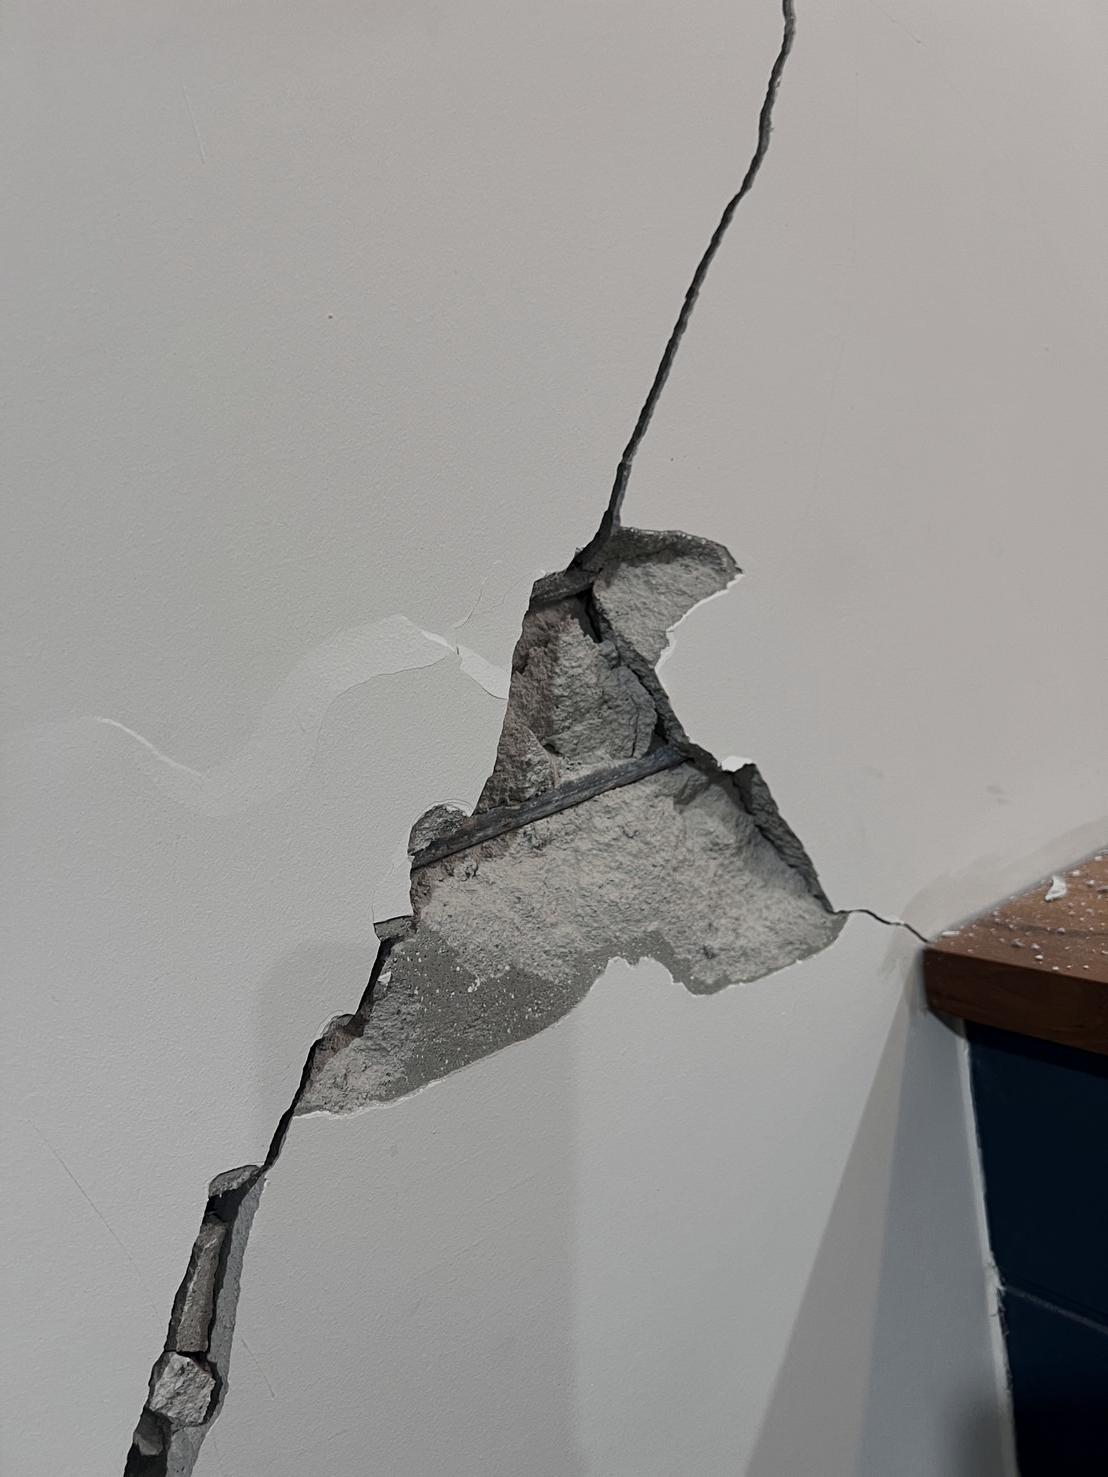High: (88, 6, 912, 1477)
